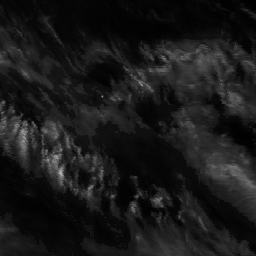Target: (100, 94, 104, 99)
